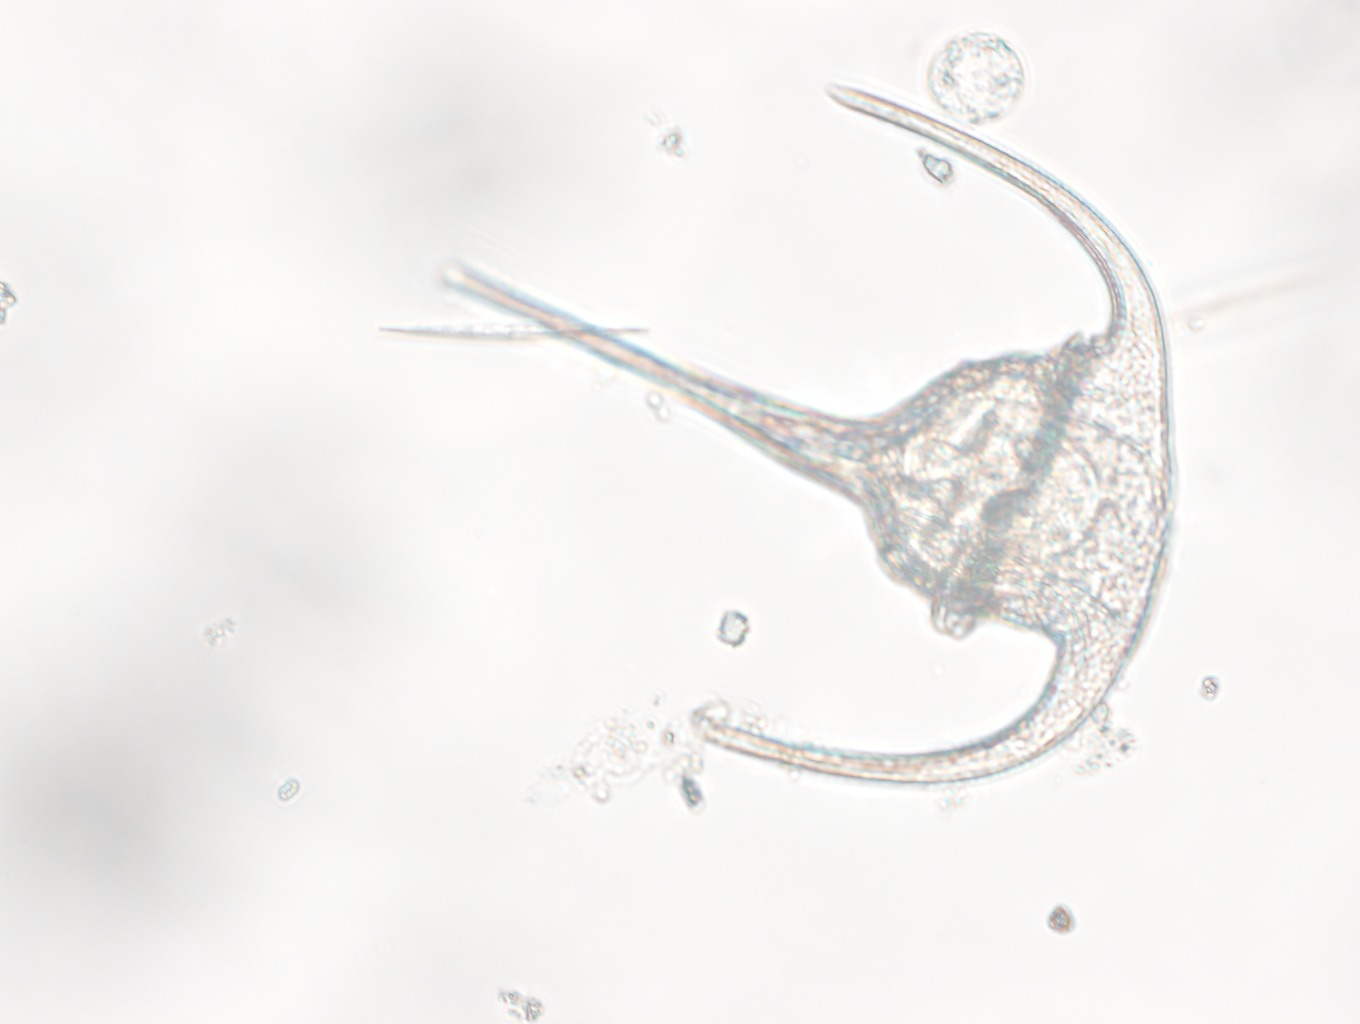ceratium tripos: (443, 81, 1174, 786)
